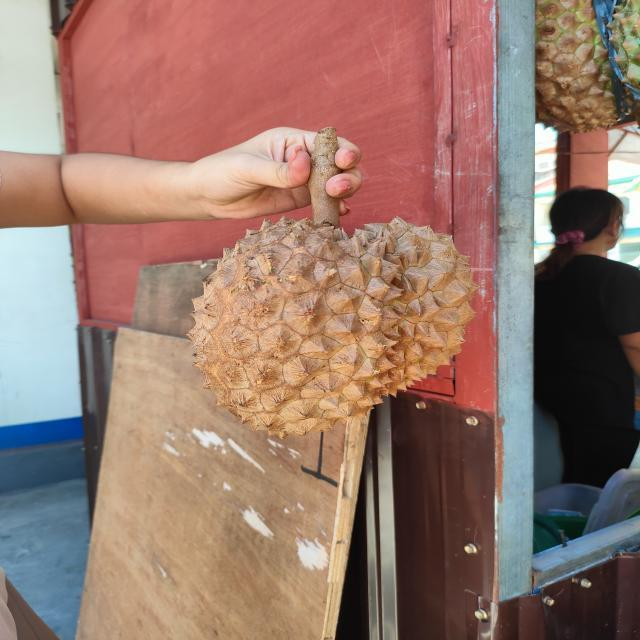mature: (185, 217, 477, 437)
